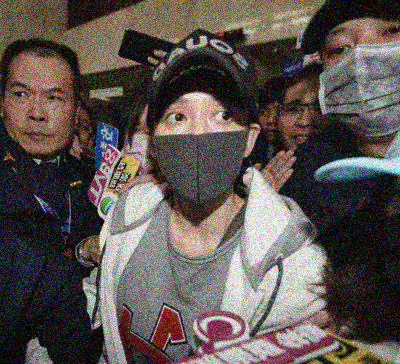with_mask: (153, 89, 249, 205), (319, 20, 399, 136), (117, 120, 157, 179)
without_mask: (3, 77, 75, 156), (276, 95, 332, 157), (260, 104, 284, 144)
